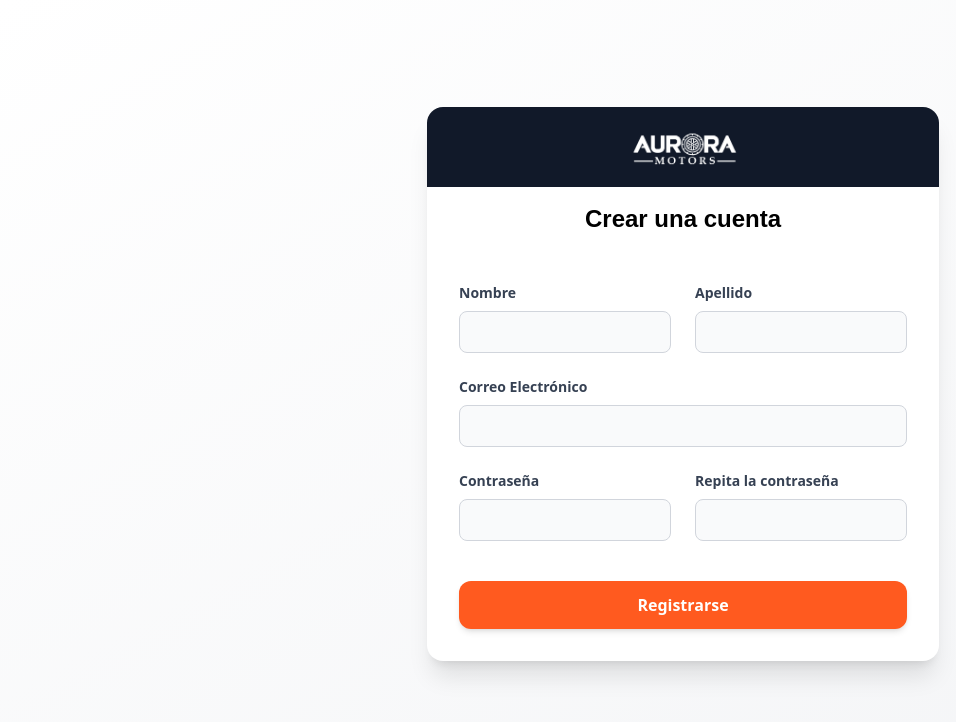
Debe mostrar mensaje de error si se intenta usar un email que ya está registrado
In the field labelled "Nombre": (565, 332) left=459, top=311, right=671, bottom=353, type "Roberto"
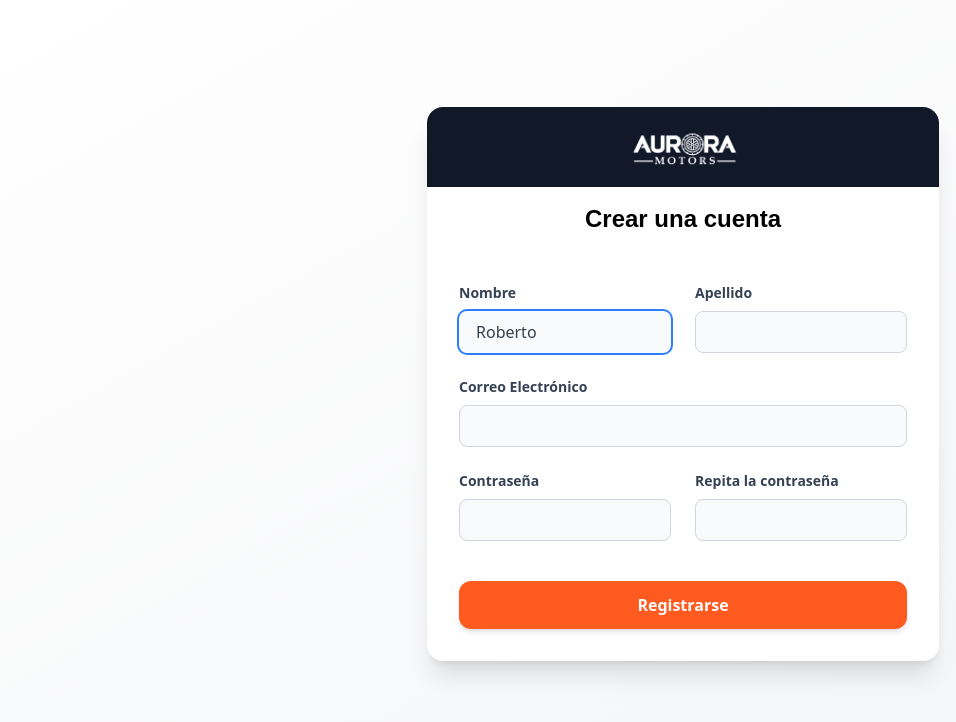
In the field labelled "Apellido": (801, 332) left=695, top=311, right=907, bottom=353, type "Gonzales"
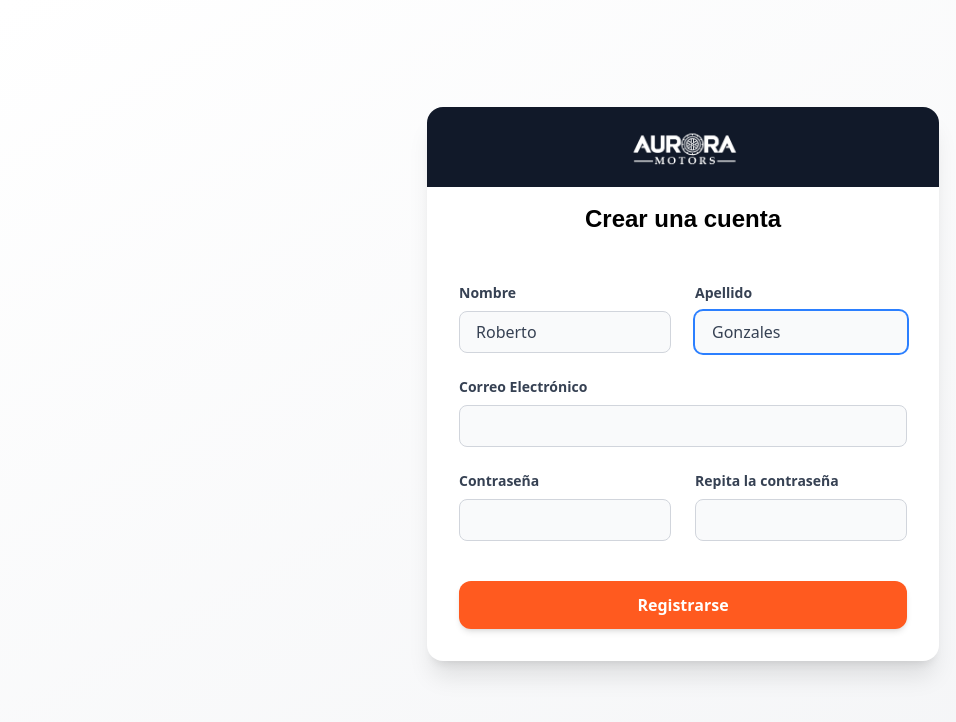
In the field labelled "Correo Electrónico": (683, 426) left=459, top=405, right=907, bottom=447, type "toberto@gmail.com"
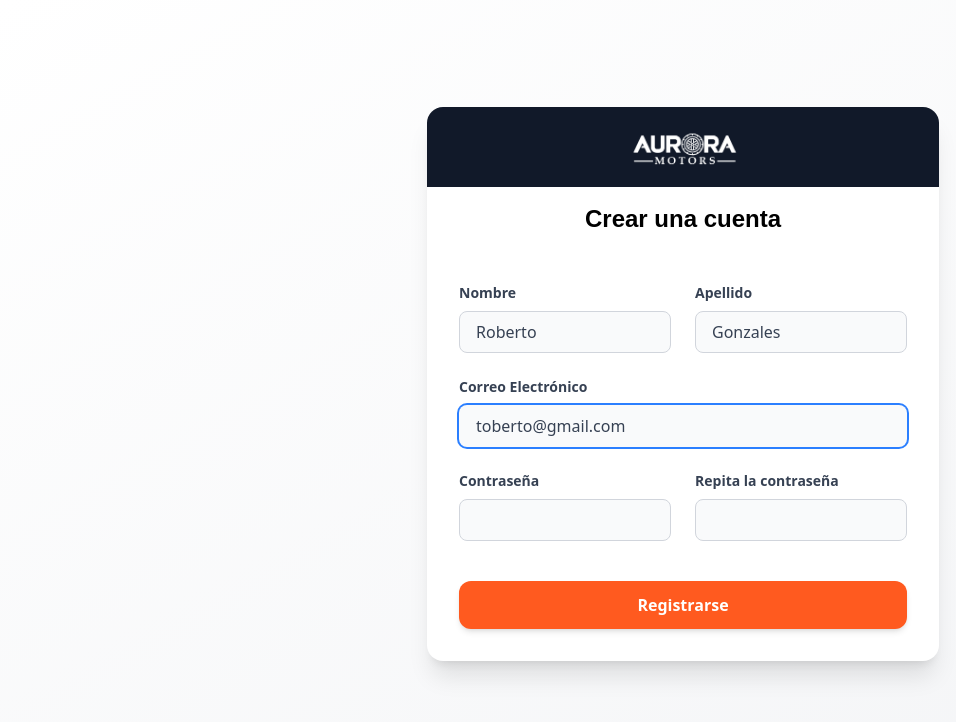
In the password field labelled "Contraseña": (565, 520) left=459, top=499, right=671, bottom=541, type "password"
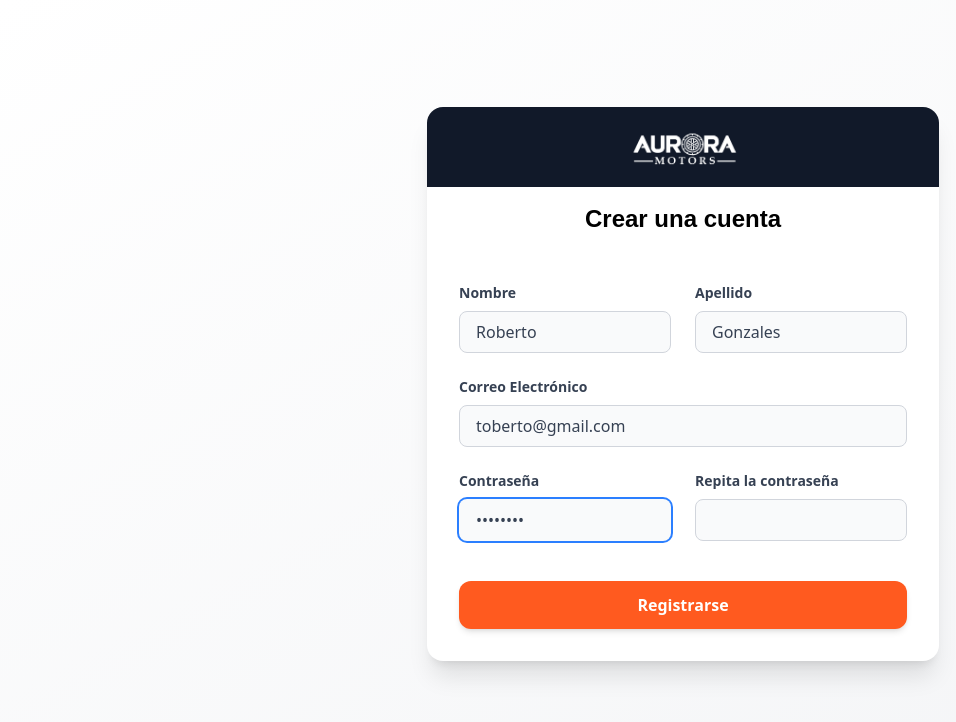
In the password field labelled "Repita la contraseña": (801, 520) left=695, top=499, right=907, bottom=541, type "password"
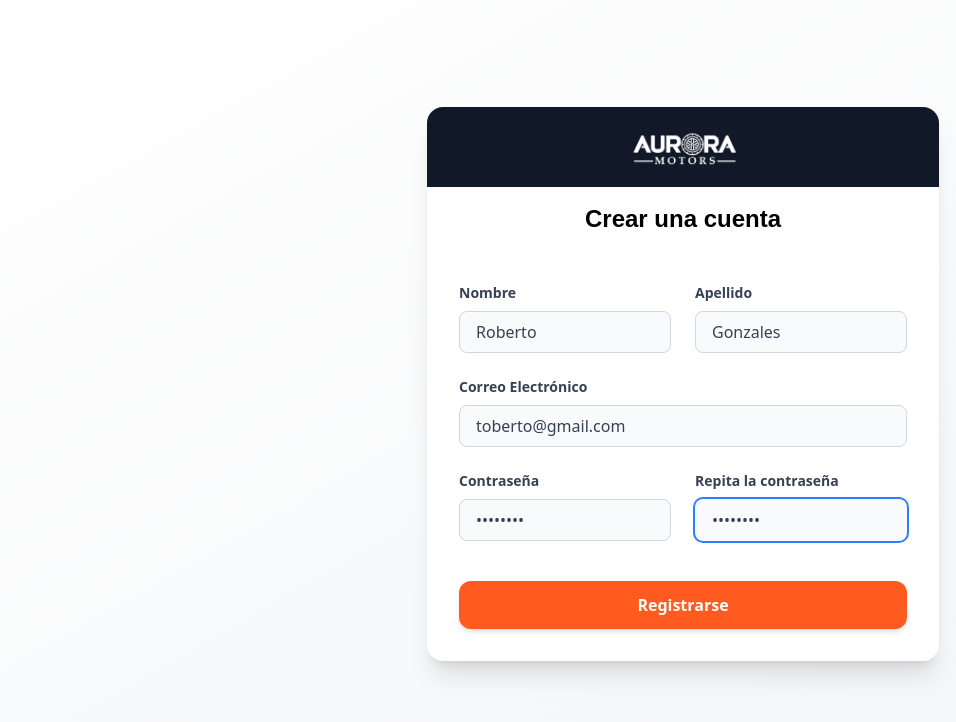
Click the button "Registrarse": (683, 605) left=459, top=581, right=907, bottom=629
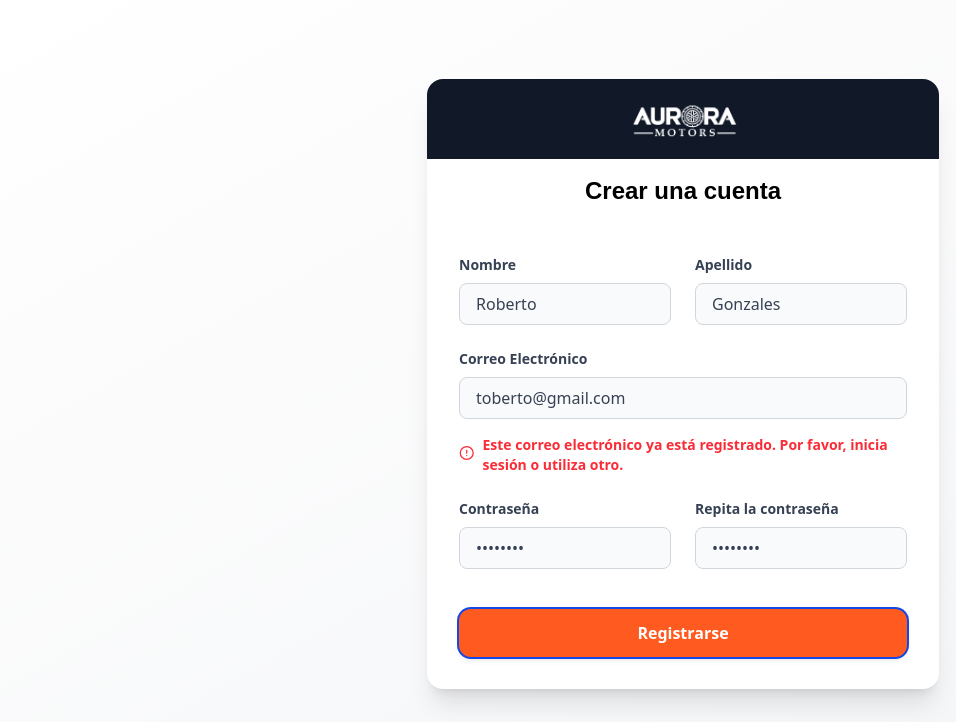
Expected: the text "Este correo electrónico ya está registrado. Por favor, inicia sesión o utiliza otro." is shown, left=482, top=435, right=888, bottom=474
